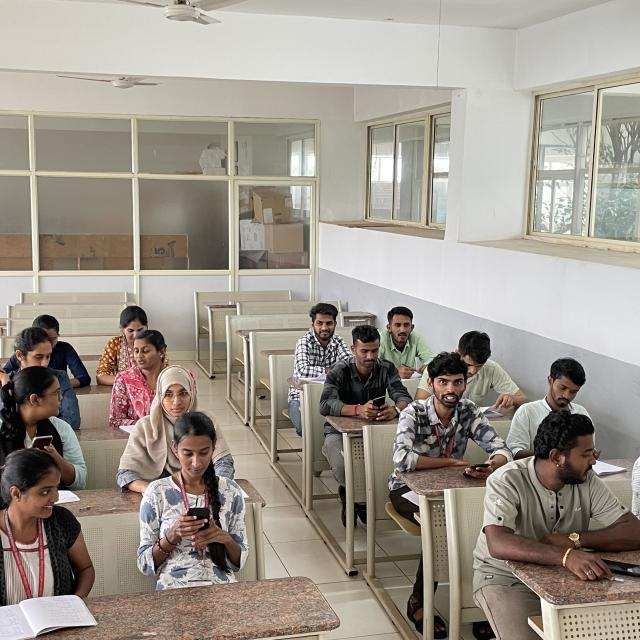Reading: (454, 324, 529, 409)
Using Phone: (130, 411, 253, 552), (404, 357, 508, 482), (0, 361, 87, 481), (318, 326, 405, 425)
Writing: (378, 301, 436, 377)
